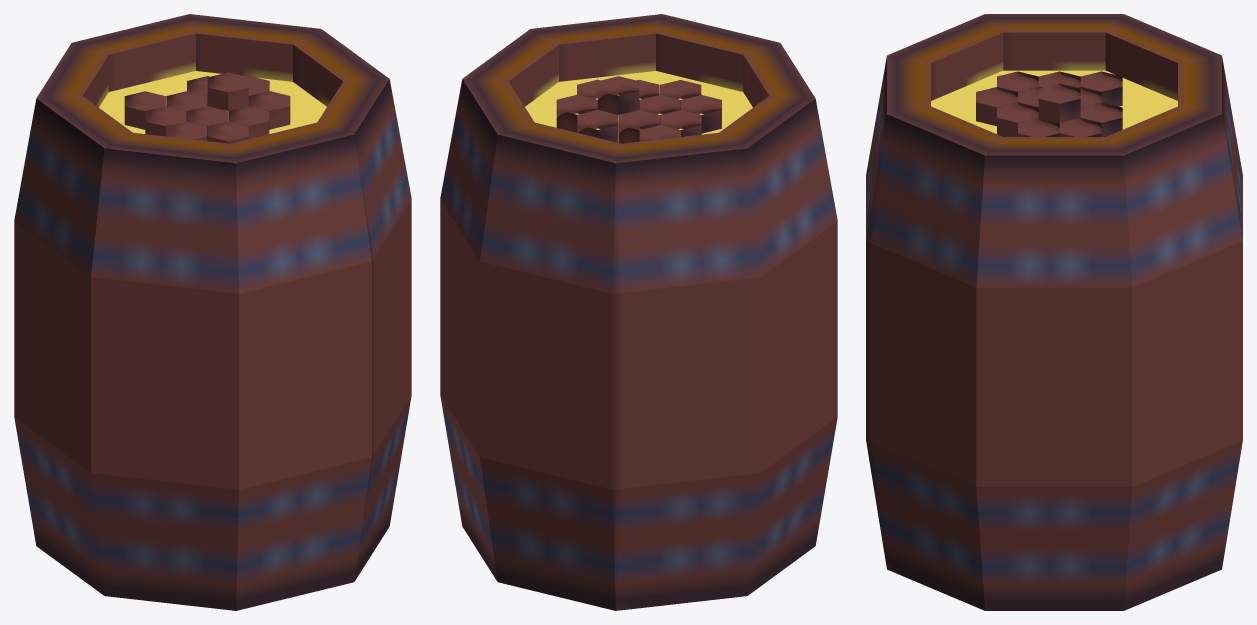
The model's file is coinBarrel 1.dae.
3 views of the same model, side by side, from view 1: azimuth 30°, elevation 25°; view 2: azimuth 150°, elevation 25°; view 3: azimuth 270°, elevation 25° (orthographic).
Visible parts, largest first — view 1: coinBarrel; view 2: coinBarrel; view 3: coinBarrel.
Boxes of the visible parts, x1=… form: coinBarrel: x1=14, y1=14, x2=411, y2=610; coinBarrel: x1=440, y1=14, x2=837, y2=610; coinBarrel: x1=866, y1=14, x2=1242, y2=610.
Bounding box in the file's own units: 1.12 × 1.5 × 1.12.
